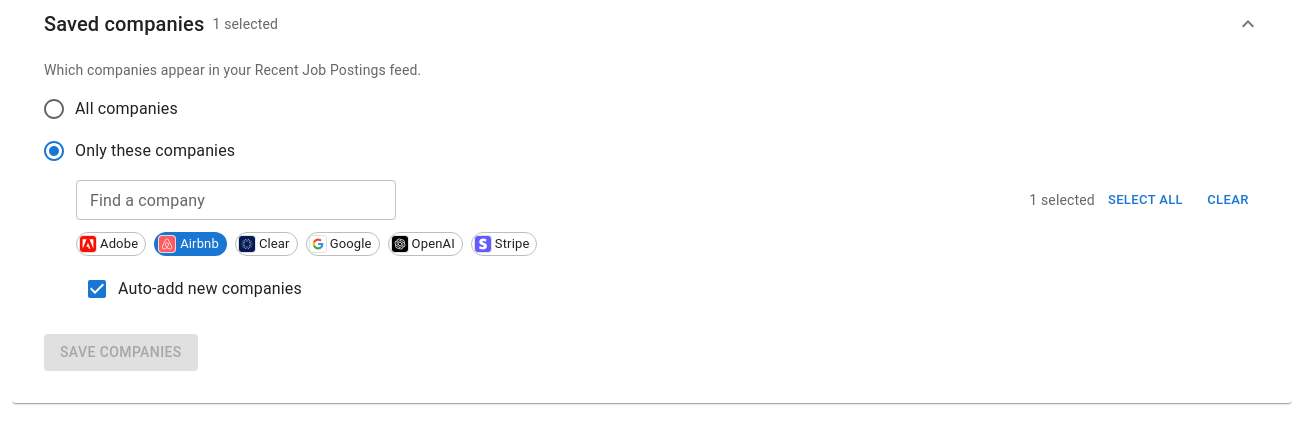
Test: EnabledCompaniesSection › the checkbox is not offered in "All companies" mode
Expected: the checkbox labelled "Auto-add new companies" is shown, x1=85 y1=277 x2=302 y2=301
Click the radio button labelled "All companies" at coordinates (110, 109), box x1=42 y1=97 x2=178 y2=121
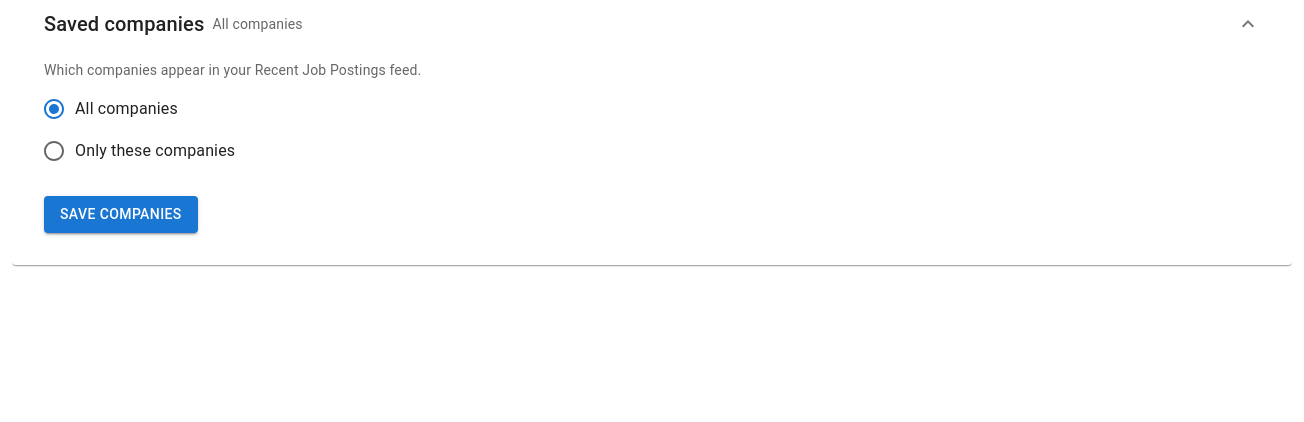
Result: the text "Auto-add new companies" is gone
